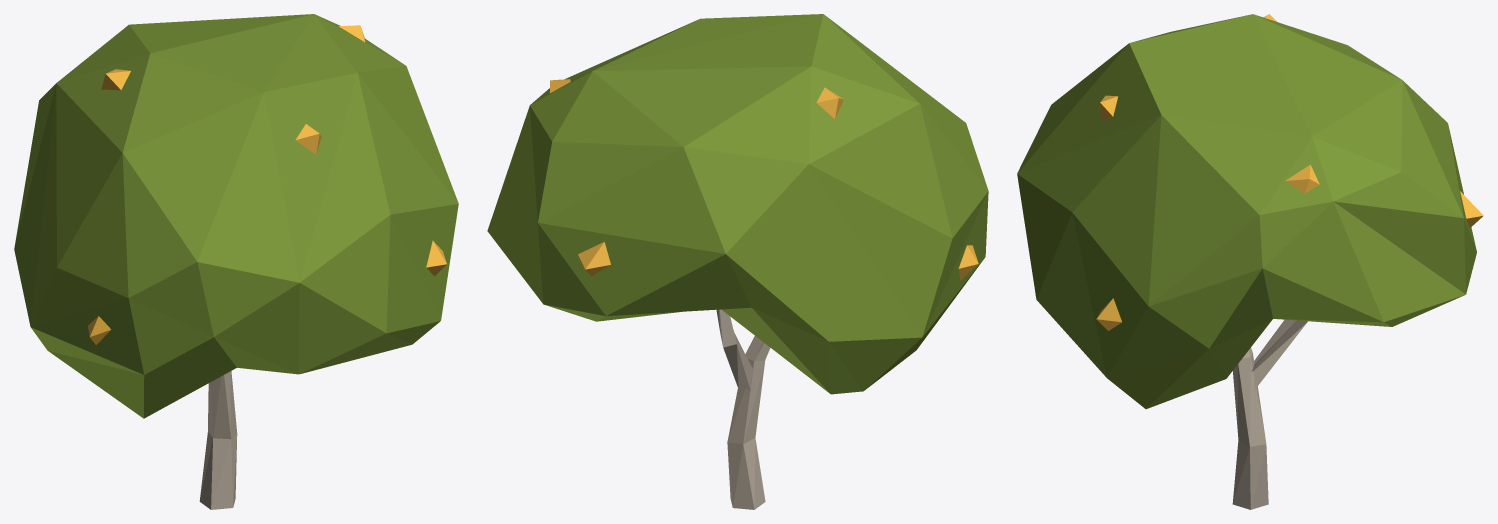
The model's file is CitrusSinensis.glb.
3 views of the same model, side by side, from view 1: azimuth 30°, elevation 25°; view 2: azimuth 150°, elevation 25°; view 3: azimuth 270°, elevation 25° (orthographic). The views are drawn at different scales.
Visible parts, largest first — view 1: Crown, Trunk, Fruit; view 2: Crown, Trunk, Fruit; view 3: Crown, Trunk, Fruit.
Part boxes in pixels (x1,y1,x2,y2): Crown: (14, 14, 458, 418); Trunk: (199, 371, 237, 509); Fruit: (88, 25, 446, 344); Crown: (487, 14, 988, 394); Trunk: (716, 309, 770, 509); Fruit: (550, 79, 978, 280); Crown: (1017, 14, 1476, 409); Trunk: (1232, 319, 1307, 509); Fruit: (1096, 14, 1483, 330).
Size of the model in its own units: 5.2 by 5.84 by 5.42.
